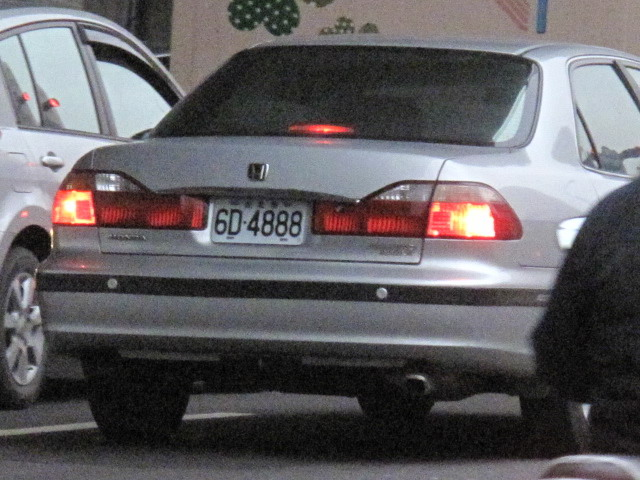plate: (211, 198, 307, 247)
